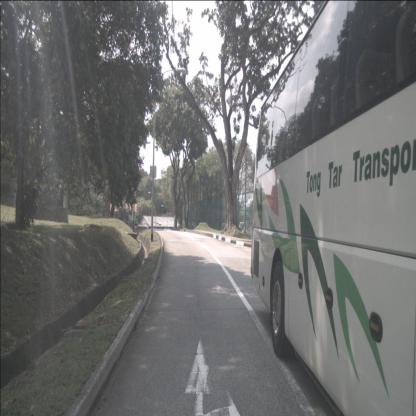vehicle-bus-rigid: (250, 0, 416, 416)
